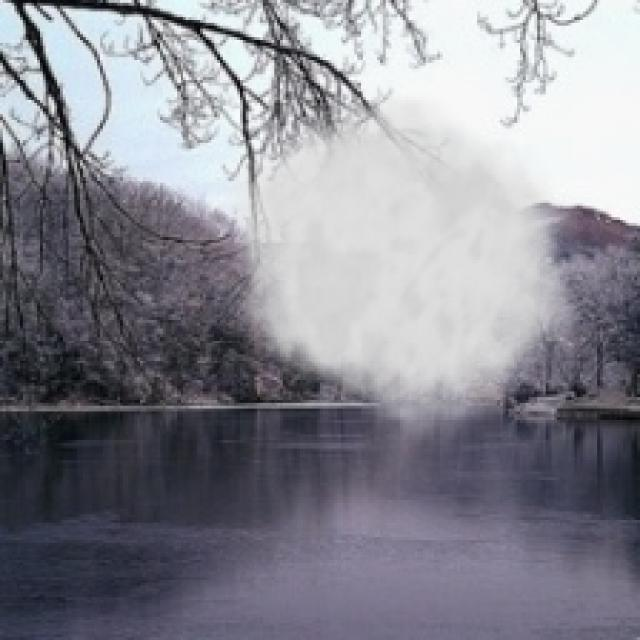Smoke: (214, 83, 583, 440)
